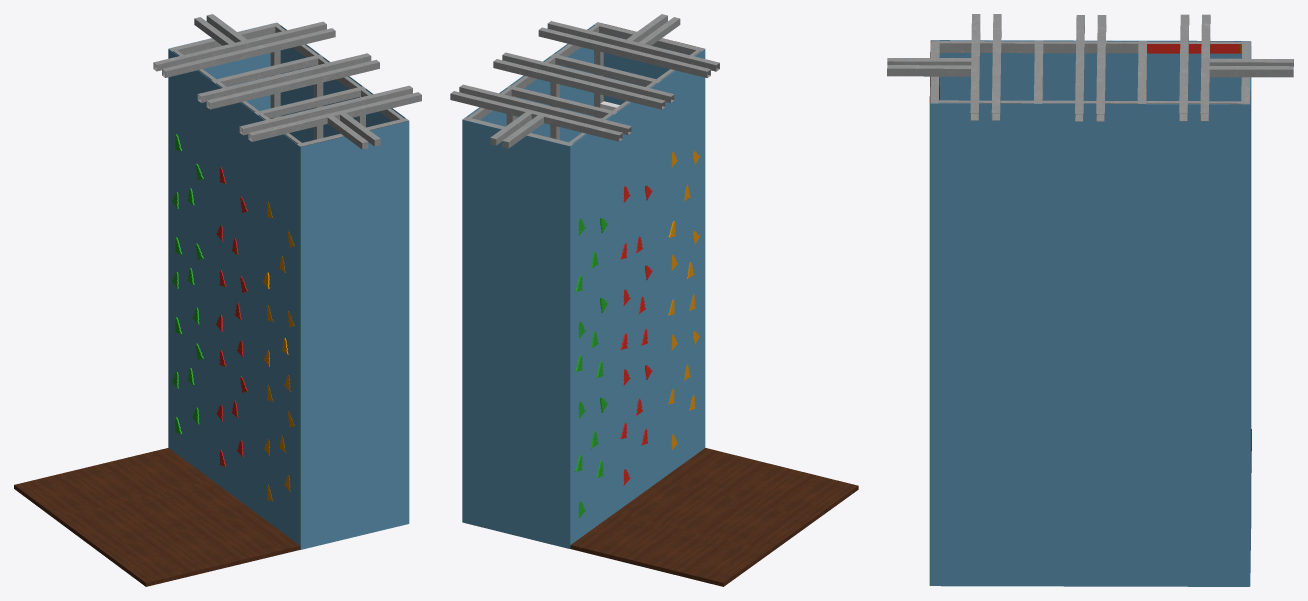
File: MurEscalade01.fbx
The picture shows the model from 3 angles, left to right: view 1: azimuth 30°, elevation 25°; view 2: azimuth 150°, elevation 25°; view 3: azimuth 270°, elevation 25°; orthographic projection. The views are drawn at different scales.
Visible parts, largest first — view 1: MurEscalade, MurEscalade.001; view 2: MurEscalade, MurEscalade.001; view 3: MurEscalade.
Part boxes in pixels (box(x1,y1,x2,y2)): MurEscalade: box(14, 14, 421, 586); MurEscalade.001: box(171, 134, 294, 501); MurEscalade: box(450, 14, 858, 586); MurEscalade.001: box(575, 151, 699, 517); MurEscalade: box(887, 14, 1293, 586).
Bounding box in the file's own units: 381 × 508 × 382.
